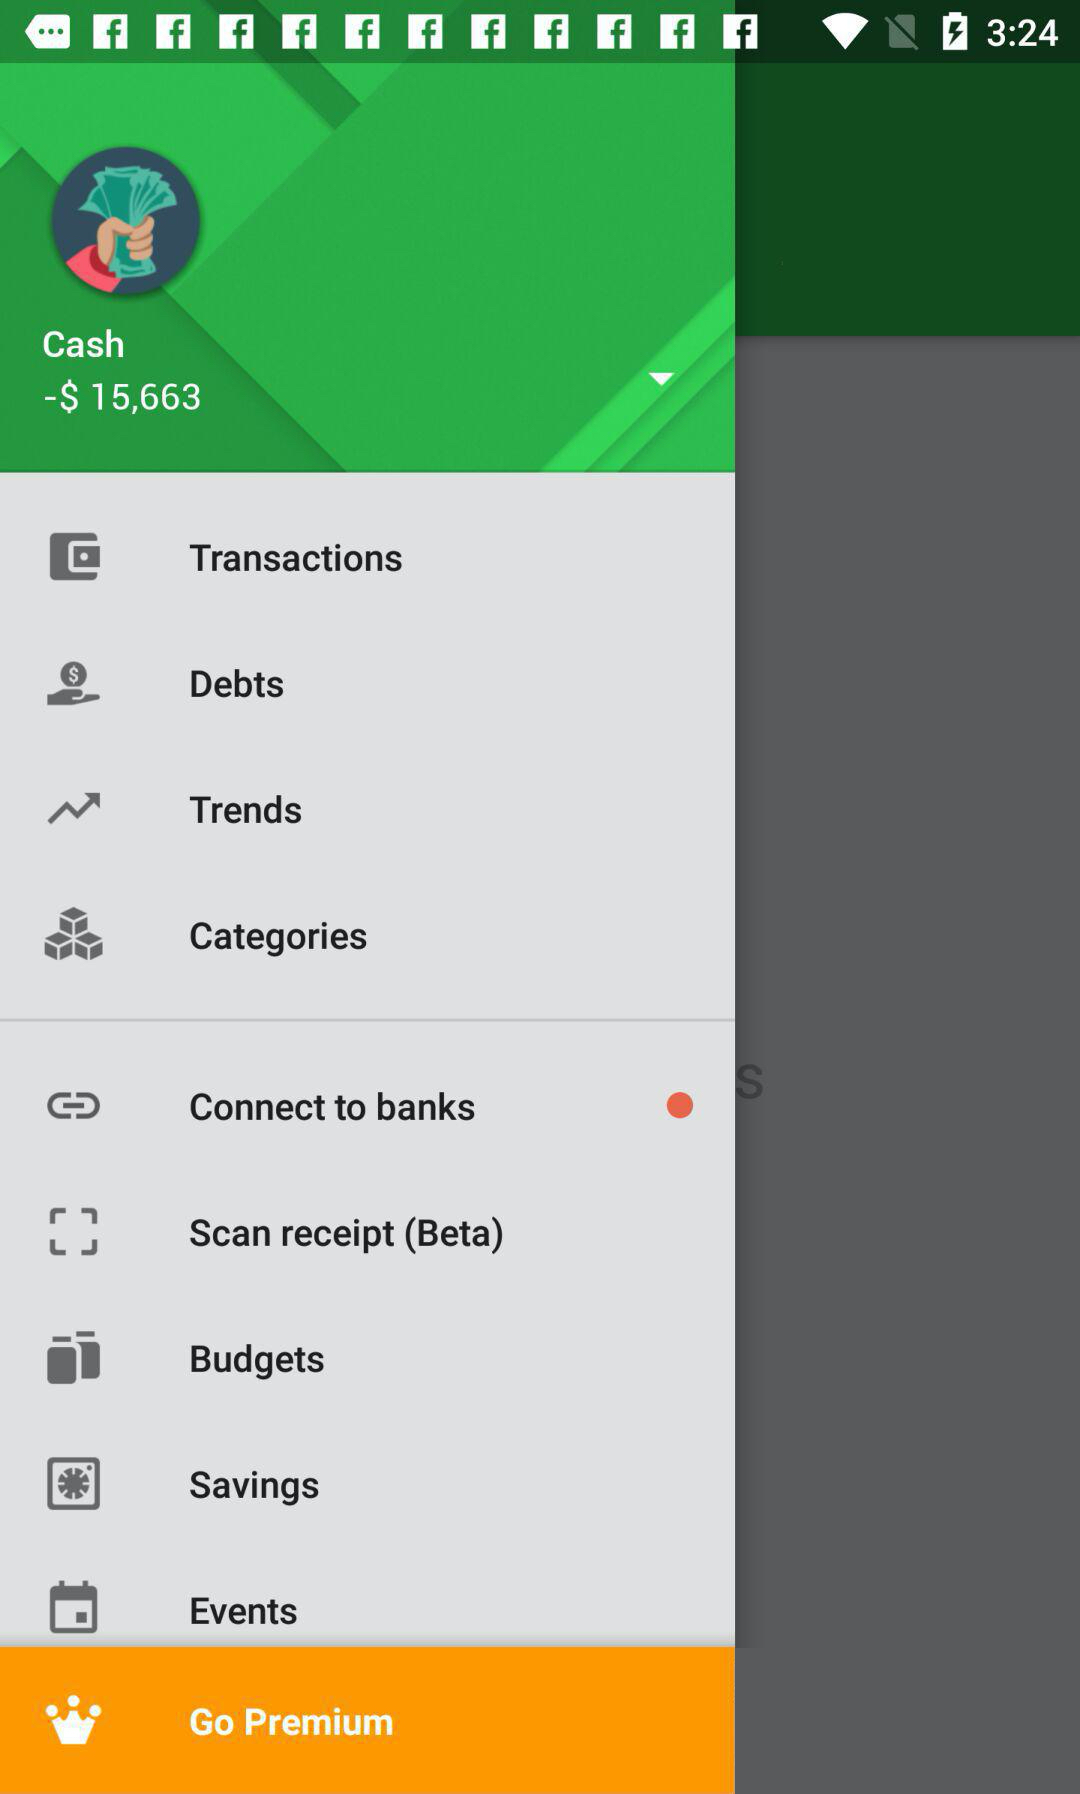Drawer: (1, 64, 735, 1794)
Icon: (47, 1330, 102, 1387), (49, 532, 102, 582), (50, 1580, 99, 1635), (47, 792, 102, 827), (648, 373, 675, 388)
Image: (50, 145, 202, 299), (44, 906, 105, 964), (44, 1693, 104, 1745), (47, 1457, 102, 1511), (49, 1207, 99, 1257), (47, 662, 102, 707), (47, 1090, 102, 1120)
Text: (190, 1215, 503, 1256), (190, 1090, 477, 1123), (190, 921, 368, 959), (190, 1706, 395, 1738), (190, 543, 404, 573), (45, 379, 202, 416), (191, 1343, 325, 1381), (190, 1470, 320, 1507), (190, 794, 304, 827), (191, 1595, 299, 1626), (191, 669, 284, 698), (44, 329, 126, 360)
UpperTaskBar: (1, 1, 1080, 64)
